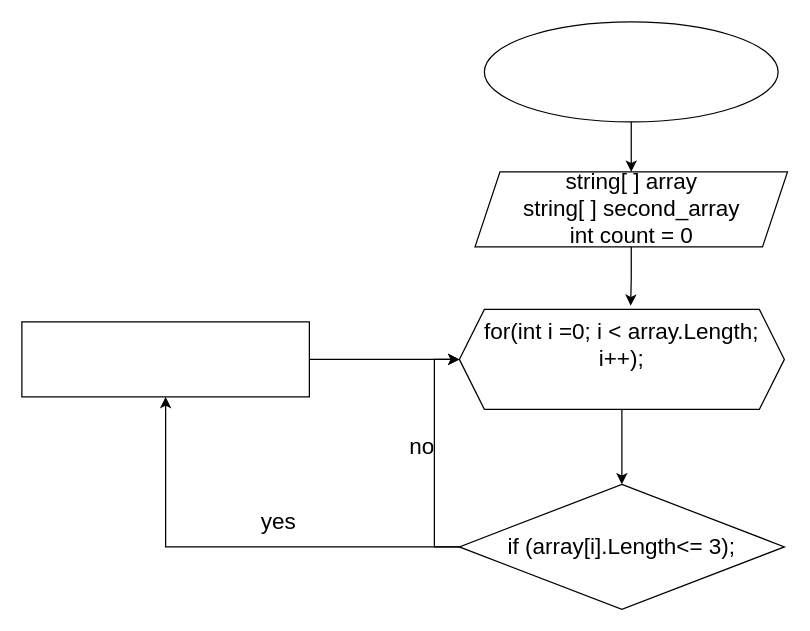
Image size: 810x631. Some labels were removed from this diagram. Here are the shapes that lost their labels. From the top down, the centre of each, then its label:
At point 630,71: "NewArrayLess4Char".
At point 165,359: "array[count] = array[i]; count++;".
